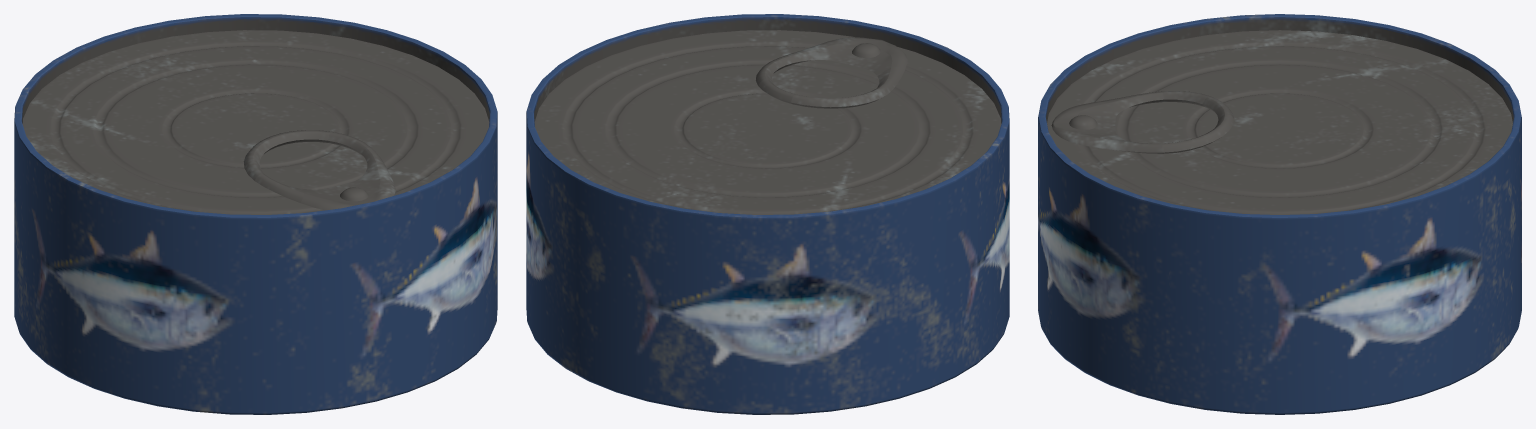
Rendered from tuna.glb.
The picture shows the model from 3 angles, left to right: view 1: azimuth 30°, elevation 25°; view 2: azimuth 150°, elevation 25°; view 3: azimuth 270°, elevation 25°; orthographic projection.
Visible parts, largest first — view 1: Object_2; view 2: Object_2; view 3: Object_2.
Boxes of the visible parts, left/top/right/bottom form: Object_2: left=14, top=14, right=497, bottom=414; Object_2: left=526, top=14, right=1009, bottom=414; Object_2: left=1038, top=14, right=1521, bottom=414.
Bounding box in the file's own units: 0.1195 × 0.0544 × 0.1195.
Materials: 1 (1 with a texture image).
